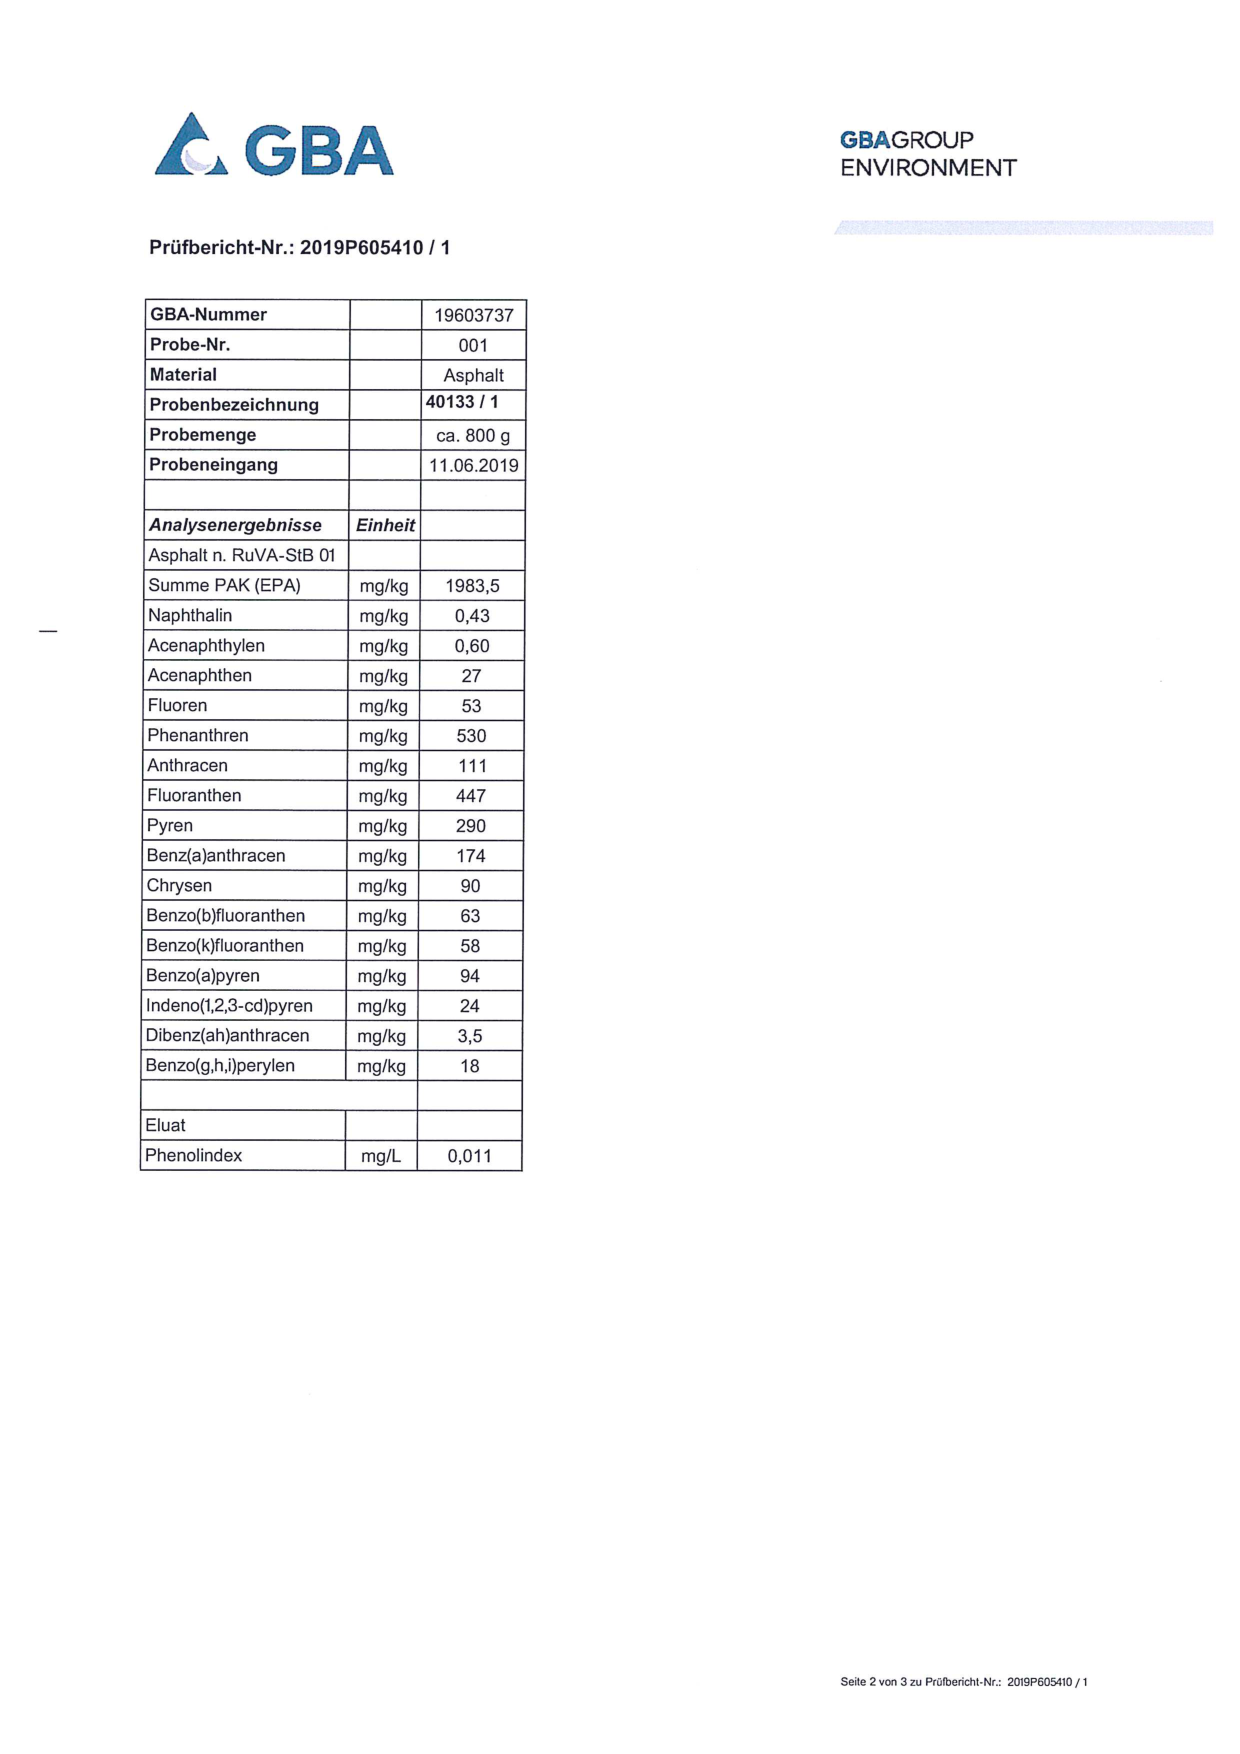table: (132, 289, 529, 1185)
